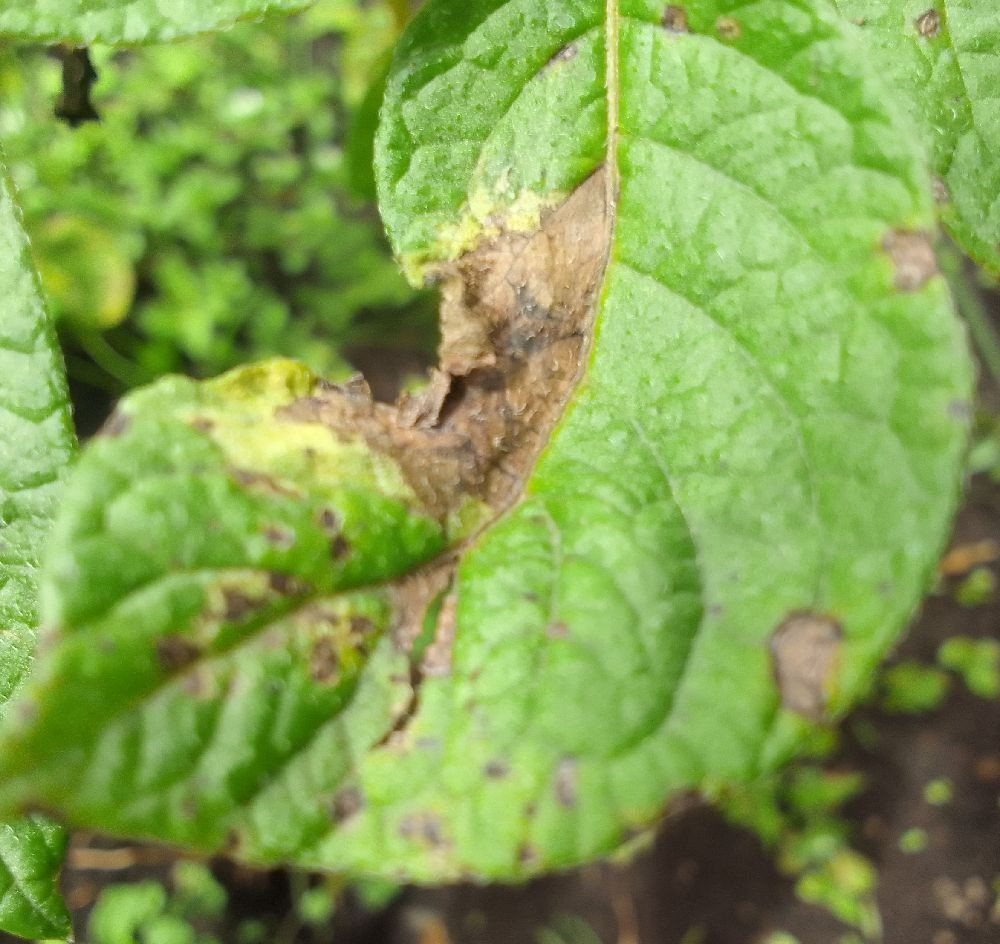late_blight: (257, 592, 999, 943), (936, 232, 1000, 464), (60, 361, 133, 455), (877, 223, 946, 296)
